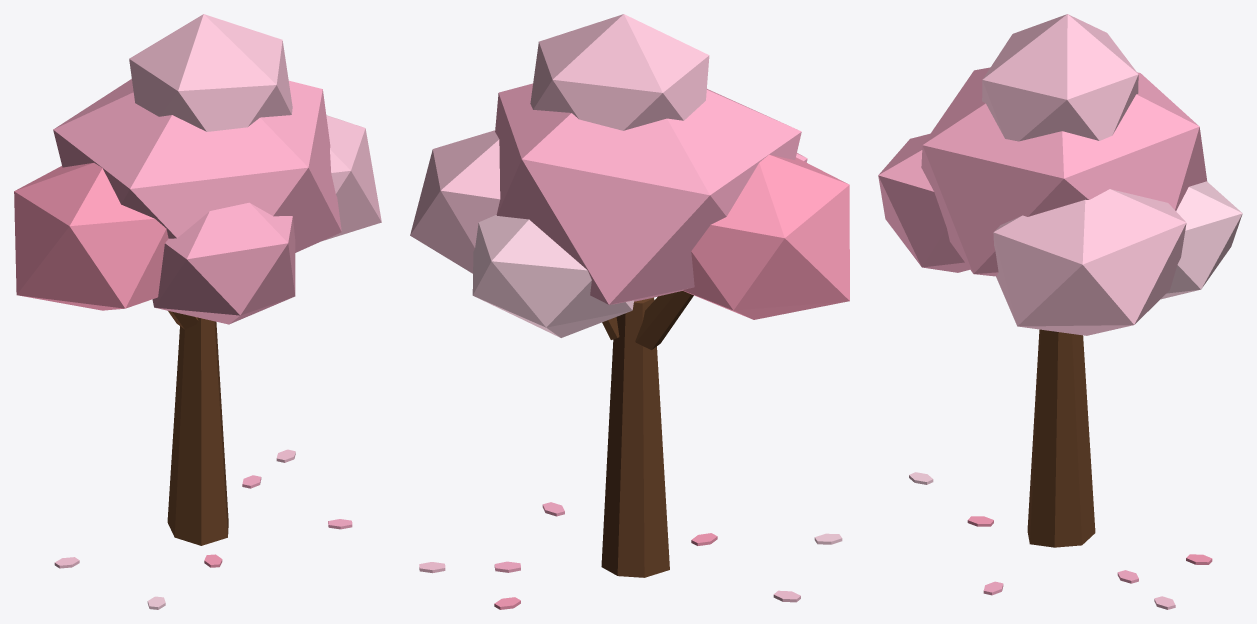
File: cherry-tree-b.glb
3 renders of one model, left to right at view 1: azimuth 30°, elevation 25°; view 2: azimuth 150°, elevation 25°; view 3: azimuth 270°, elevation 25°, orthographic. The views are drawn at different scales.
Visible parts, largest first — view 1: cherry-tree-b; view 2: cherry-tree-b; view 3: cherry-tree-b.
Boxes of the visible parts, box(x1,y1,x2,y2) form: cherry-tree-b: box(14, 14, 381, 609); cherry-tree-b: box(410, 14, 849, 609); cherry-tree-b: box(878, 14, 1242, 609).
Bounding box in the file's own units: 2.77 × 3.69 × 2.31.
